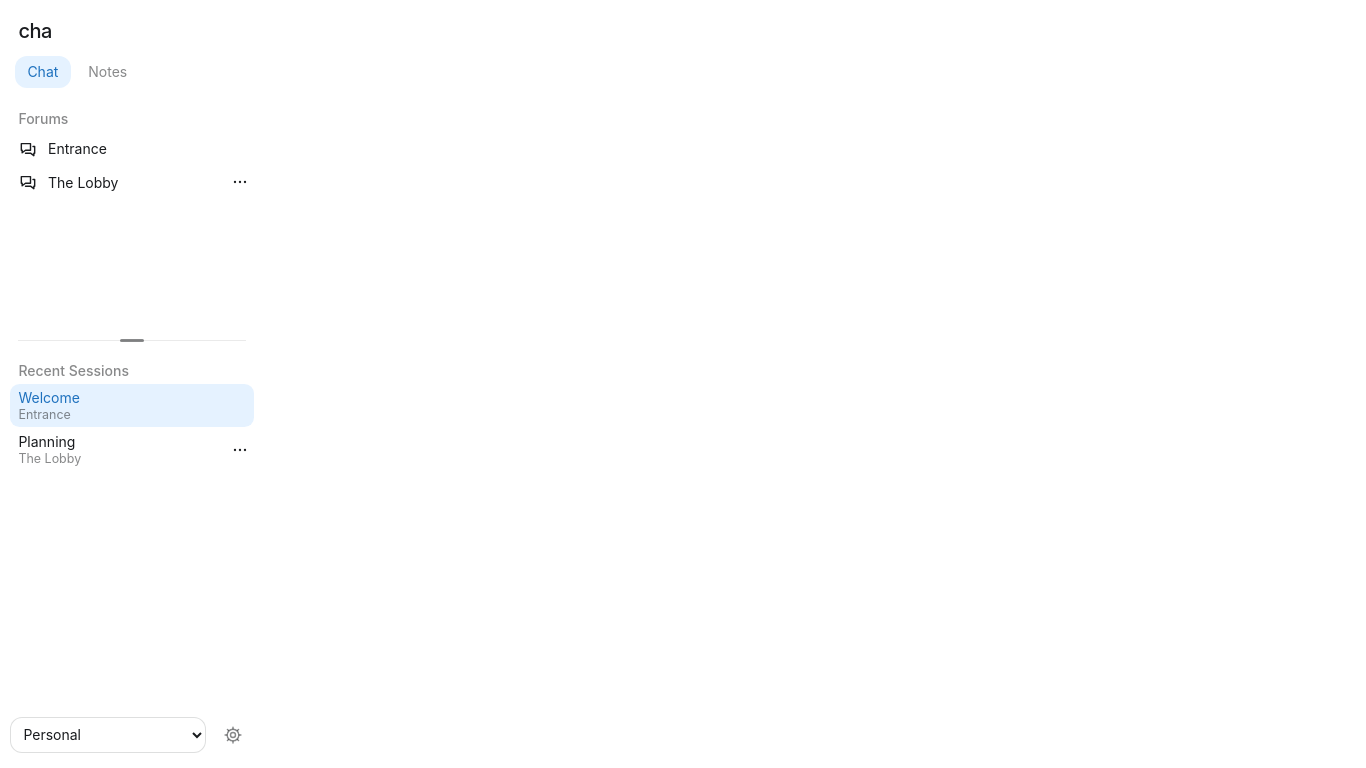
Test: Sidebar session actions › disables the destructive action while deletion is pending
The width and height of the screenshot is (1366, 768).
Click the button named "Actions for Planning": (239, 450) [224,435,254,465]
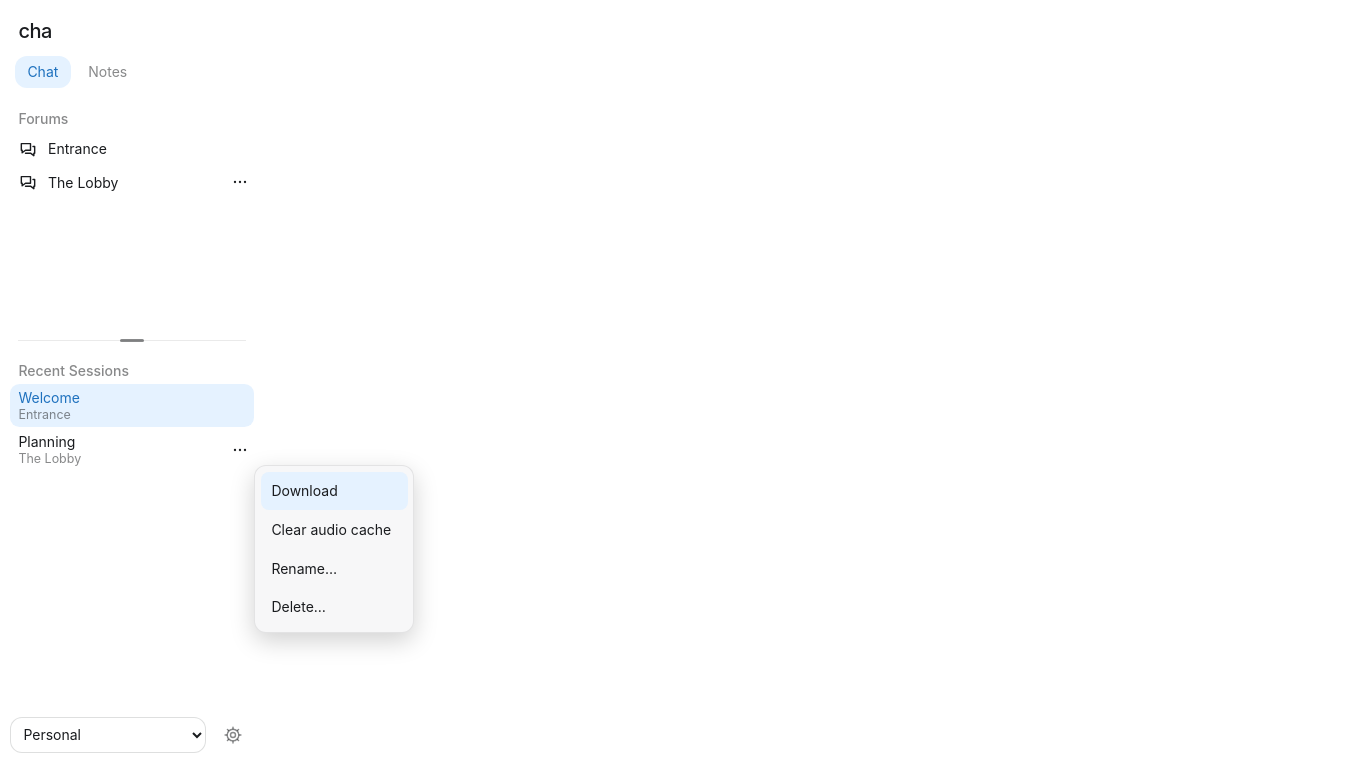
Click the menu item "Delete…": (334, 607) [261,588,408,626]
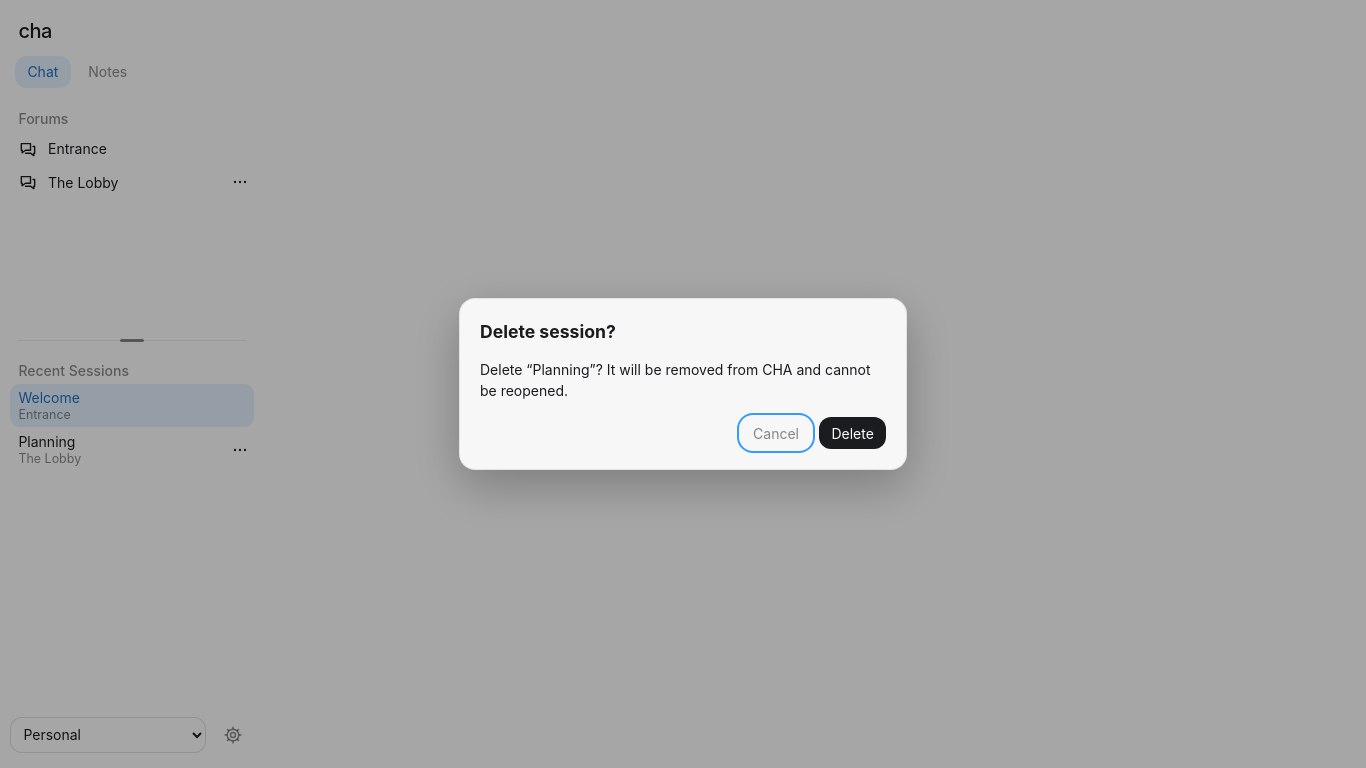
Click the button "Delete": (853, 433) [819,417,886,449]
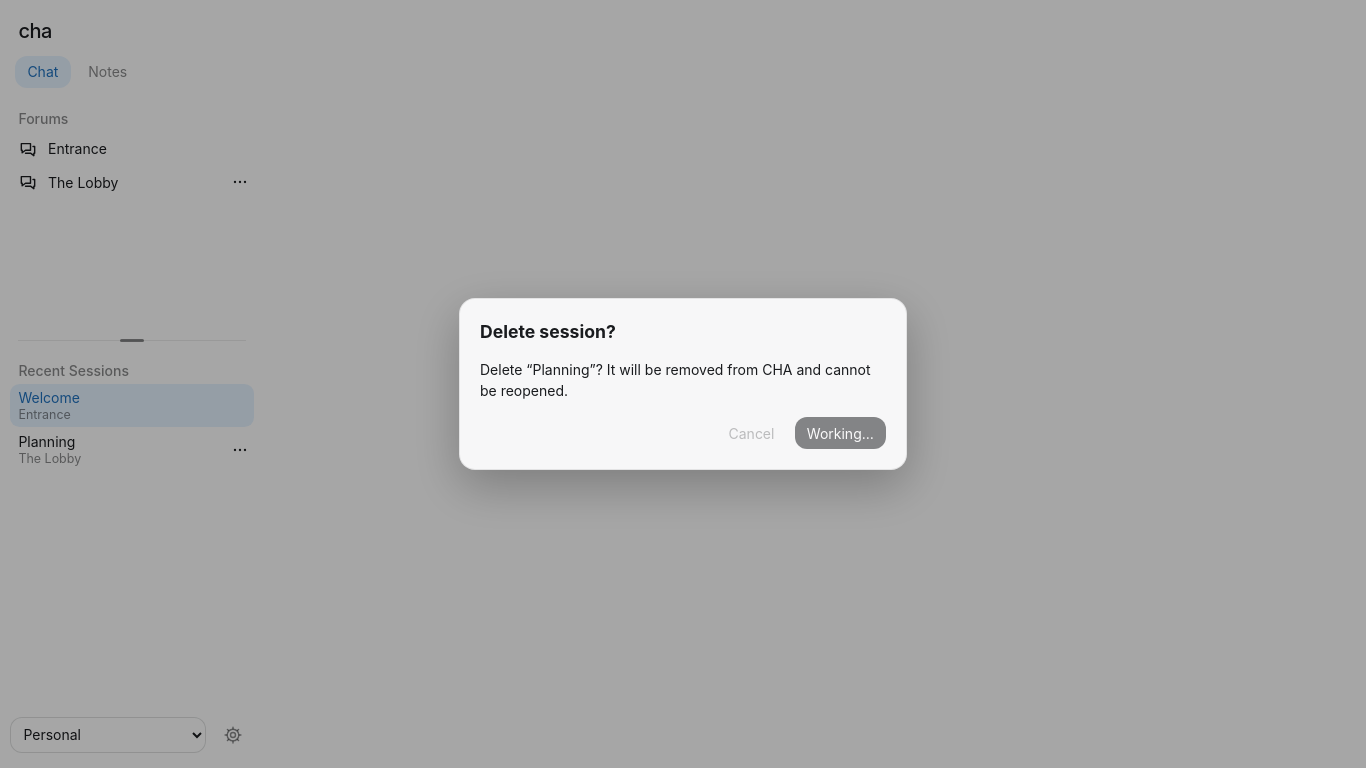
expect the button "Working…" is disabled: met, box [795,417,886,449]
expect the button "Cancel" is disabled: met, box [716,417,787,449]
